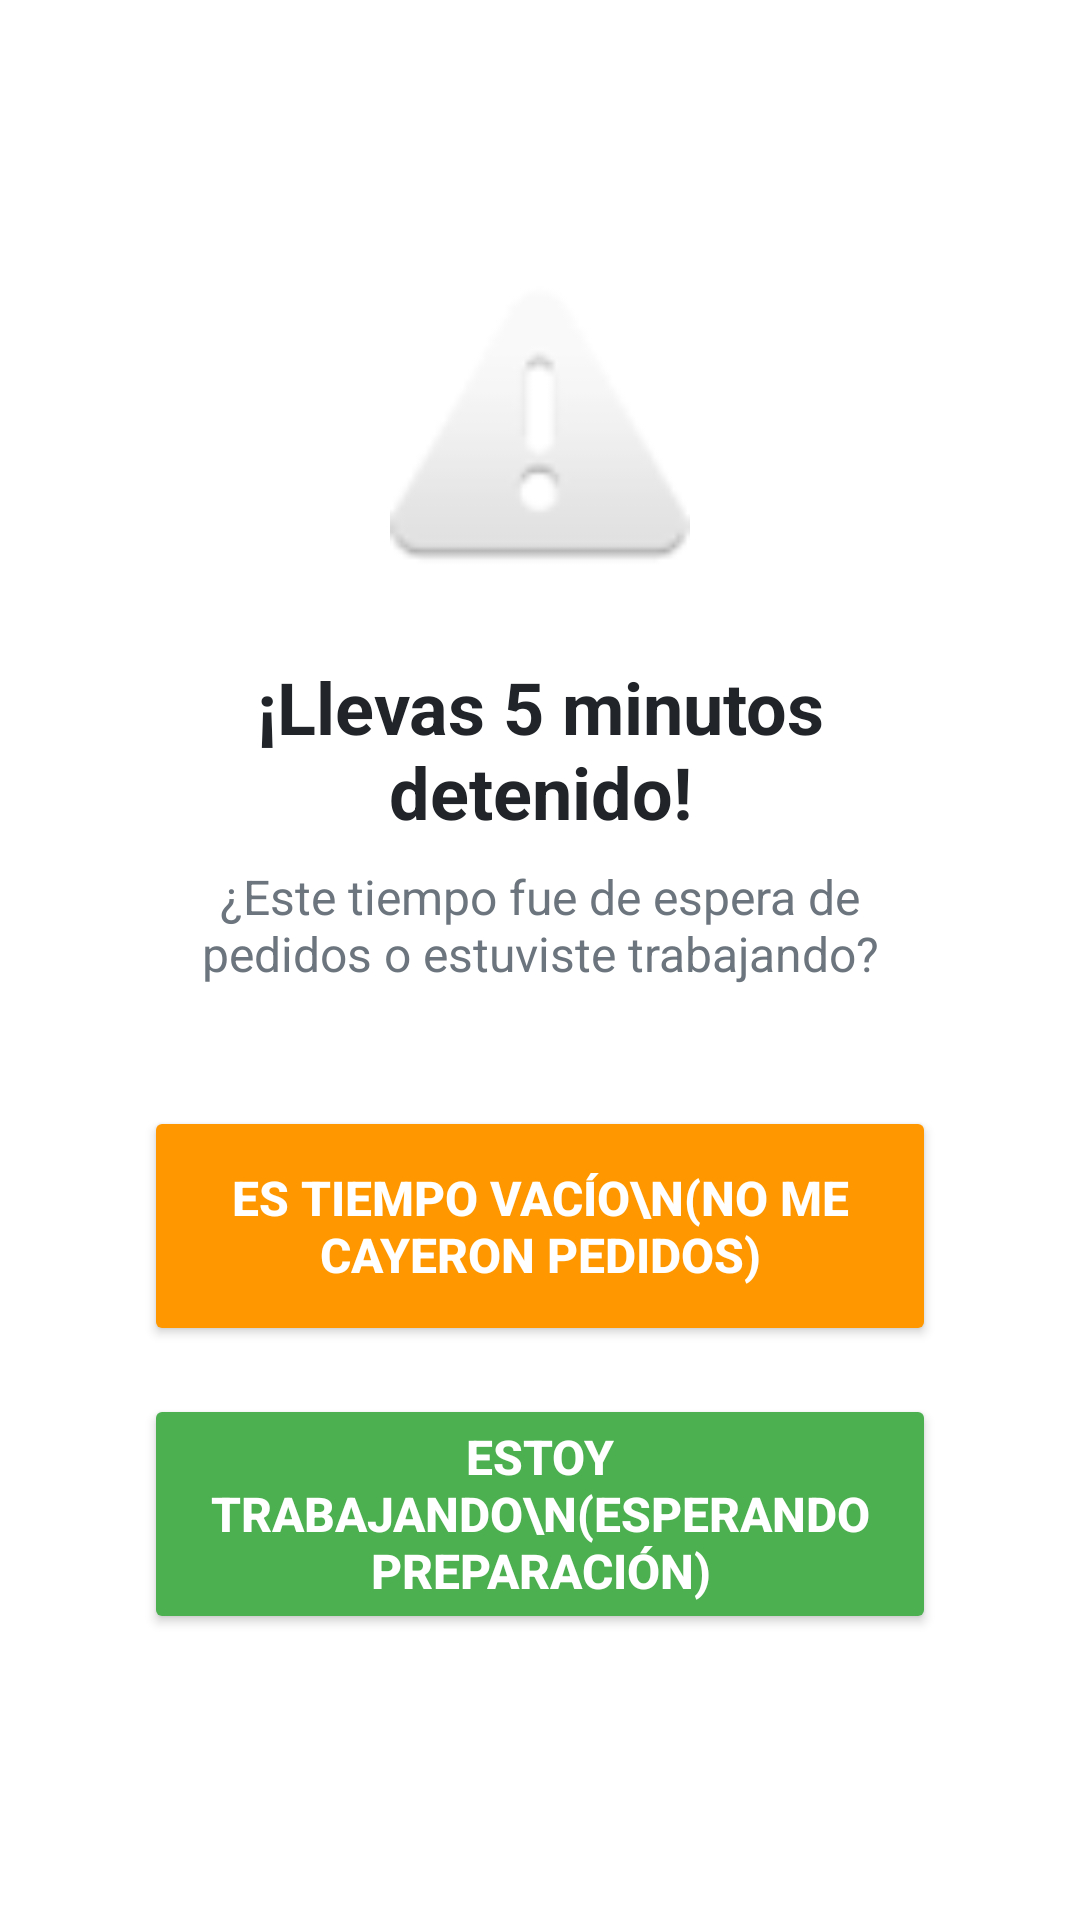

Where to tap for icons on this 1080px×1920px app screen, as point (x, y):
Alerta: point (516, 447)
